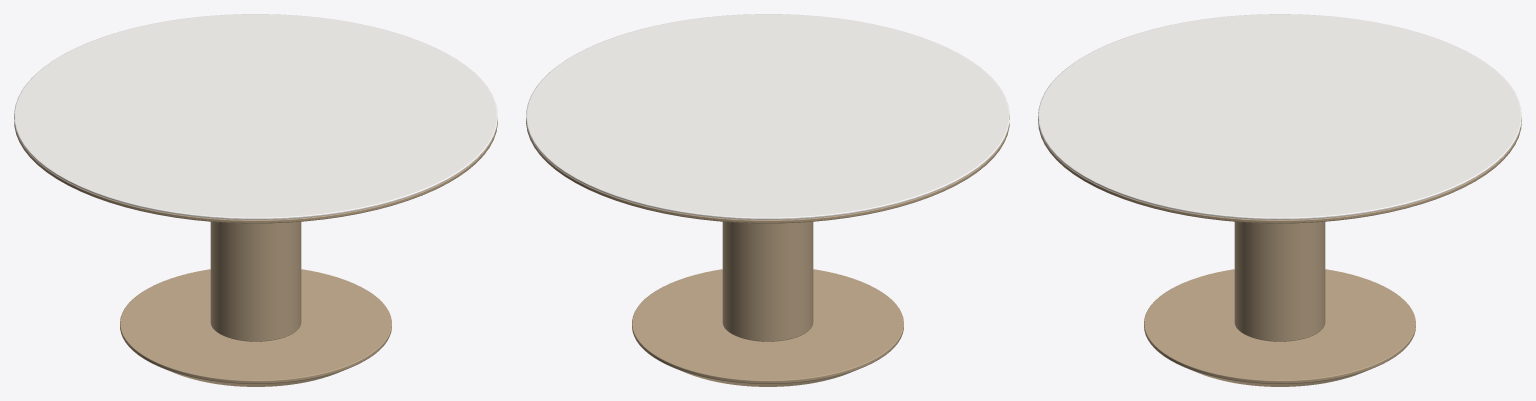
The model's file is orbit_d80h40_proposta.glb.
3 renders of one model, left to right at view 1: azimuth 30°, elevation 25°; view 2: azimuth 150°, elevation 25°; view 3: azimuth 270°, elevation 25°, orthographic.
Parts seen in each view (by area): view 1: Top Orbit Coffee Table 018, Base Orbit Coffee Table 018, Base Element Orbit Coffee Table 021, Undertop Orbit Coffee Table 018; view 2: Top Orbit Coffee Table 018, Base Orbit Coffee Table 018, Base Element Orbit Coffee Table 021, Undertop Orbit Coffee Table 018; view 3: Top Orbit Coffee Table 018, Base Orbit Coffee Table 018, Base Element Orbit Coffee Table 021, Undertop Orbit Coffee Table 018.
Part boxes in pixels (x1=…): Top Orbit Coffee Table 018: x1=14, y1=14, x2=497, y2=219; Base Orbit Coffee Table 018: x1=120, y1=269, x2=391, y2=386; Base Element Orbit Coffee Table 021: x1=210, y1=221, x2=301, y2=341; Undertop Orbit Coffee Table 018: x1=14, y1=116, x2=497, y2=223; Top Orbit Coffee Table 018: x1=526, y1=14, x2=1009, y2=219; Base Orbit Coffee Table 018: x1=632, y1=269, x2=903, y2=386; Base Element Orbit Coffee Table 021: x1=722, y1=221, x2=813, y2=341; Undertop Orbit Coffee Table 018: x1=526, y1=116, x2=1009, y2=223; Top Orbit Coffee Table 018: x1=1038, y1=14, x2=1521, y2=219; Base Orbit Coffee Table 018: x1=1144, y1=269, x2=1415, y2=386; Base Element Orbit Coffee Table 021: x1=1234, y1=221, x2=1325, y2=341; Undertop Orbit Coffee Table 018: x1=1038, y1=119, x2=1521, y2=223.
Bounding box in the file's own units: 0.8 × 0.404 × 0.8.
